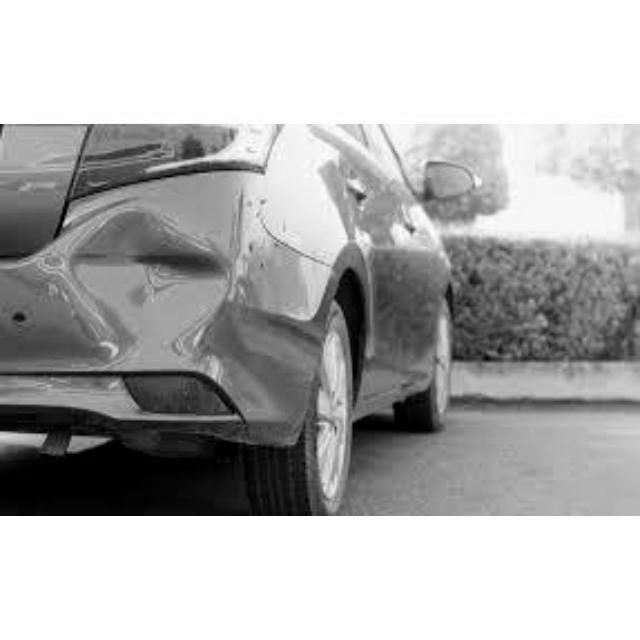rear-bumper-dent: (1, 194, 326, 461)
